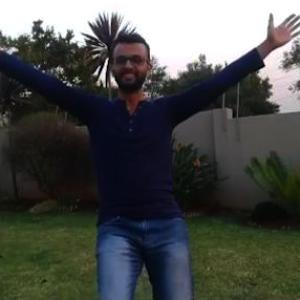takeoff: (1, 24, 298, 299)
